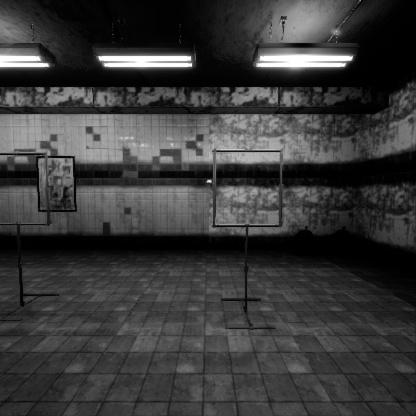gate: (213, 188, 289, 266)
